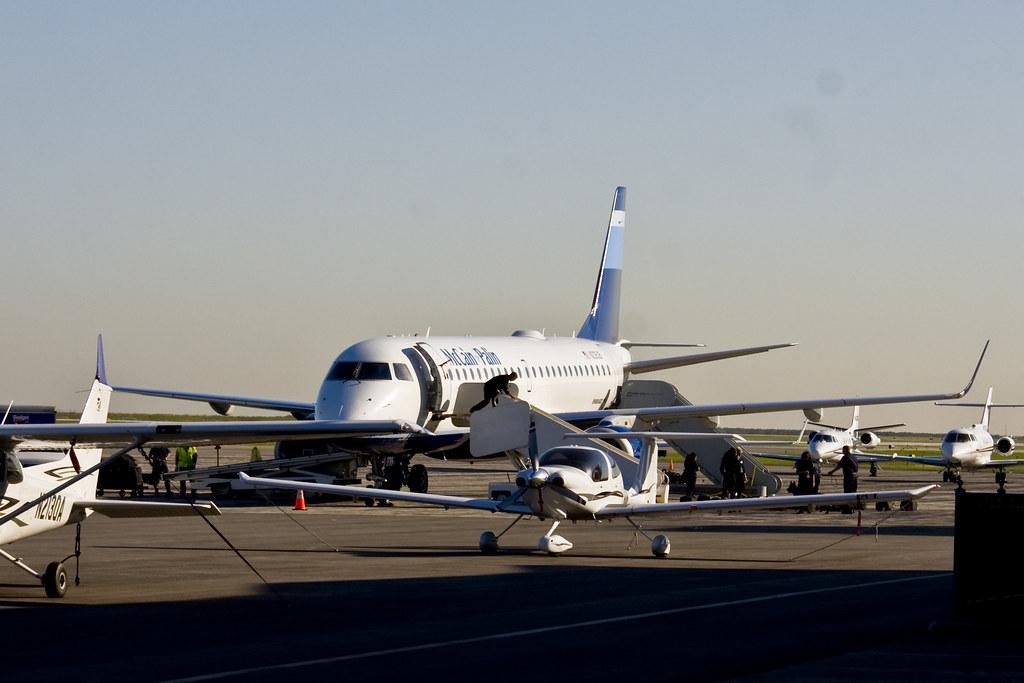plane: (75, 185, 990, 501), (237, 395, 941, 558), (1, 400, 222, 599), (851, 387, 1024, 487), (740, 404, 907, 477)
